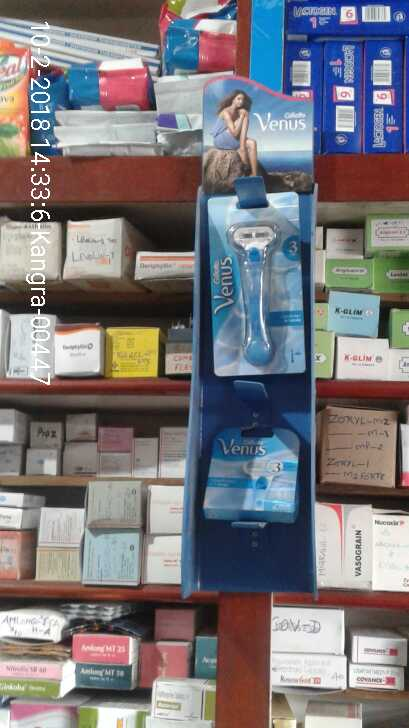venus: (192, 185, 308, 381), (209, 425, 309, 524)
